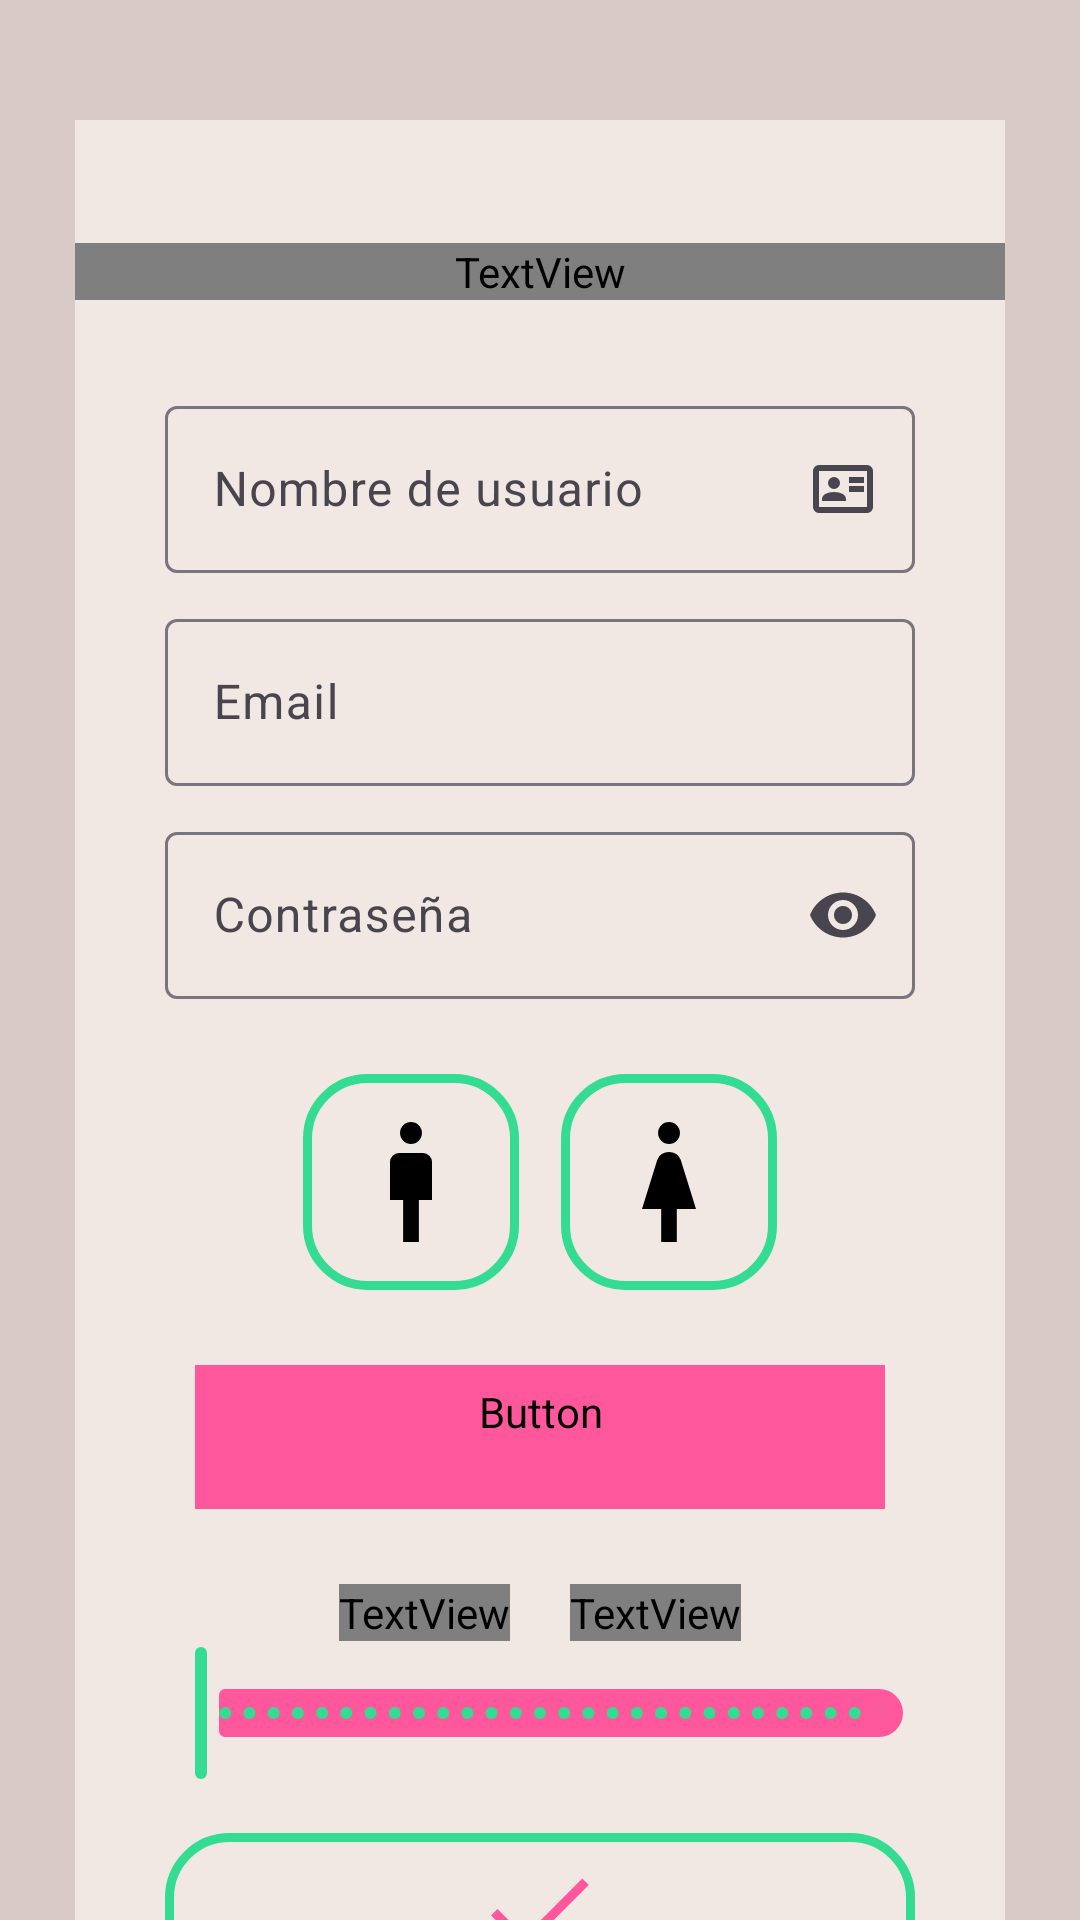

Icons on this 1080 x 1920 Android screen, each with its box as (x1, y1, x2, y2):
Hombre: (303, 1074, 519, 1290)
Mujer: (561, 1074, 777, 1290)
